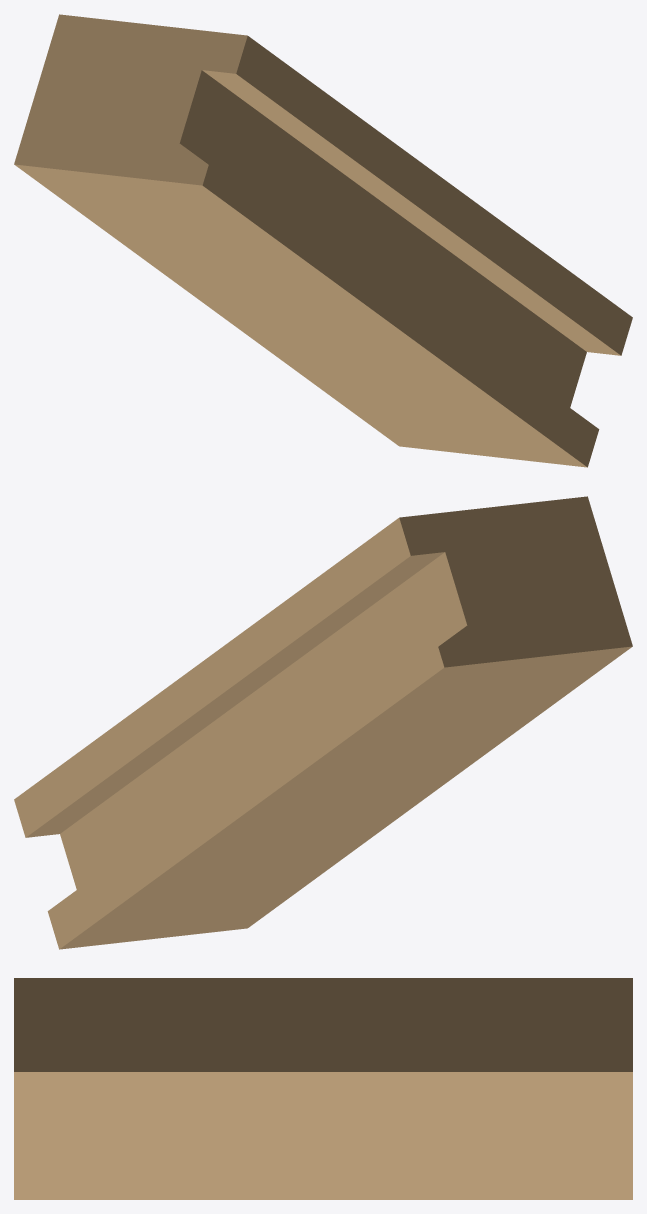
The picture shows the model from 3 angles, top to bottom: view 1: azimuth 30°, elevation 25°; view 2: azimuth 150°, elevation 25°; view 3: azimuth 270°, elevation 25°; orthographic projection. The views are drawn at different scales.
Parts seen in each view (by area): view 1: 0_3_1_3_3_2_3_0_0_1; view 2: 0_3_1_3_3_2_3_0_0_1; view 3: 0_3_1_3_3_2_3_0_0_1.
Boxes of the visible parts, <box> form: 0_3_1_3_3_2_3_0_0_1: <box>14,14,632,467</box>; 0_3_1_3_3_2_3_0_0_1: <box>14,496,632,949</box>; 0_3_1_3_3_2_3_0_0_1: <box>14,978,632,1199</box>.
Size of the model in its own units: 9.46 by 7.97 by 27.
